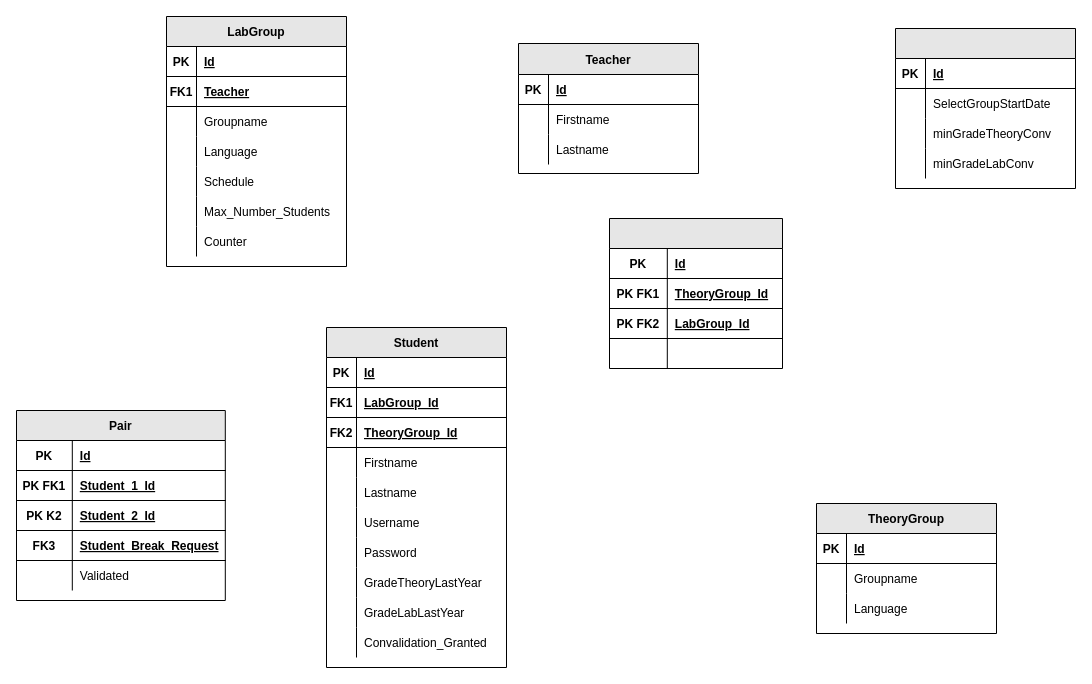
The diagram is 1092 pixels wide and 684 high, and some of its shapes have lost their labels. The box of each missing label's shape, as (x1, y1, x2, y2) in pixels:
GroupConstraints: (608, 218, 782, 368)
OtherConstraints: (894, 28, 1076, 188)
